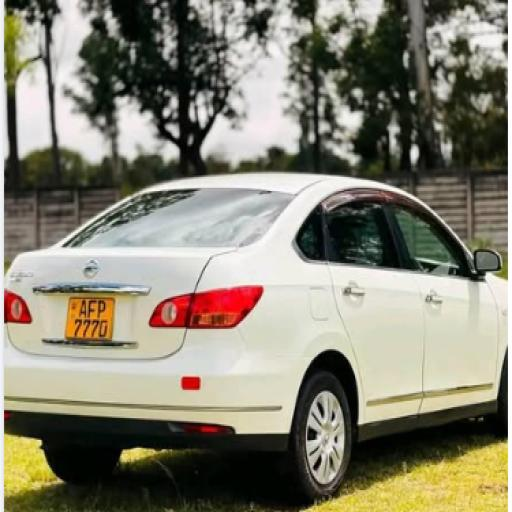number-plates: (66, 292, 114, 338)
